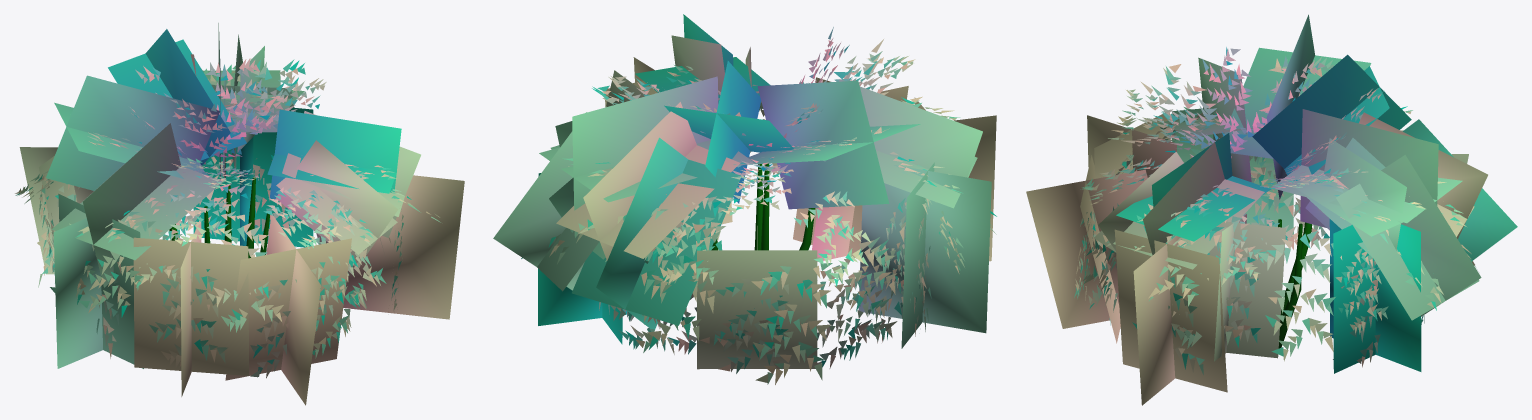
Rendered from scrub_2.glb.
3 views of the same model, side by side, from view 1: azimuth 30°, elevation 25°; view 2: azimuth 150°, elevation 25°; view 3: azimuth 270°, elevation 25° (orthographic). The views are drawn at different scales.
Parts seen in each view (by area): view 1: mid, near; view 2: mid, near; view 3: mid, near.
Part boxes in pixels (bbox=[...]): mid: bbox=[19, 23, 464, 405]; near: bbox=[15, 58, 440, 378]; mid: bbox=[493, 14, 996, 369]; near: bbox=[521, 27, 996, 384]; mid: bbox=[1026, 14, 1517, 405]; near: bbox=[1074, 47, 1475, 374].
Size of the model in its own units: 3.67 by 2.67 by 4.17.
